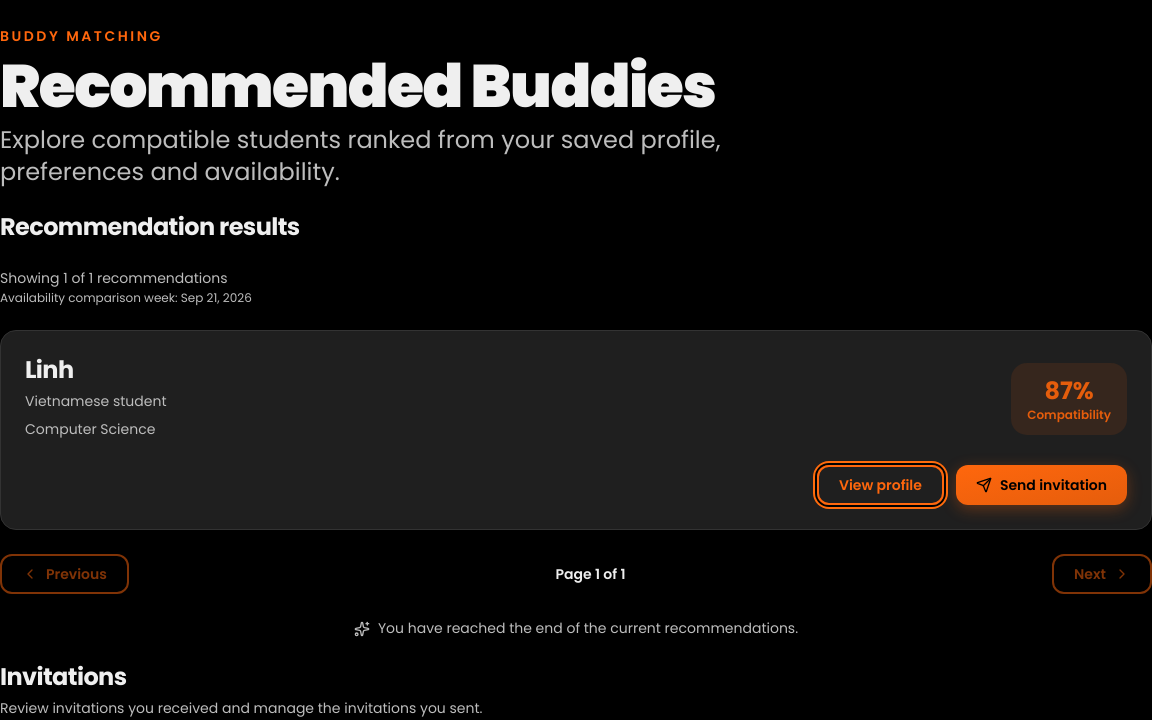
Test: REC-004 Recommended Buddies page › closes the profile dialog with Escape or the backdrop and restores focus and scrolling
Step 1. Click the button "View profile" → (880, 485), box [817,465,944,505]
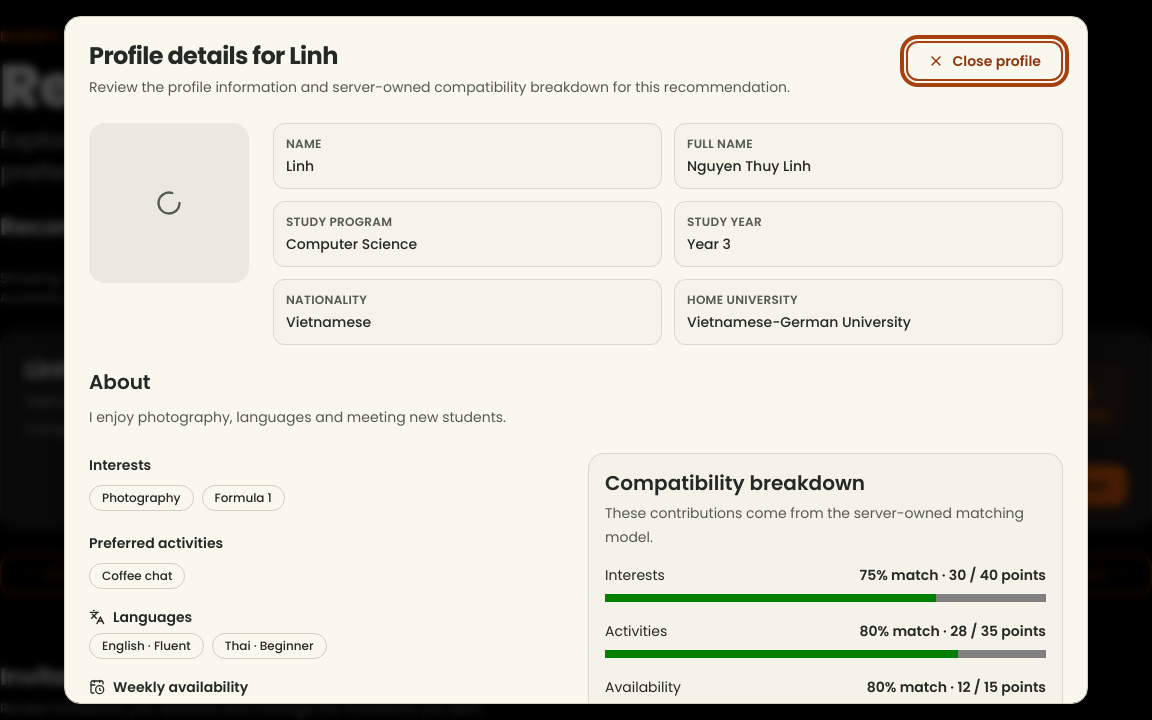
Step 2. Press Escape
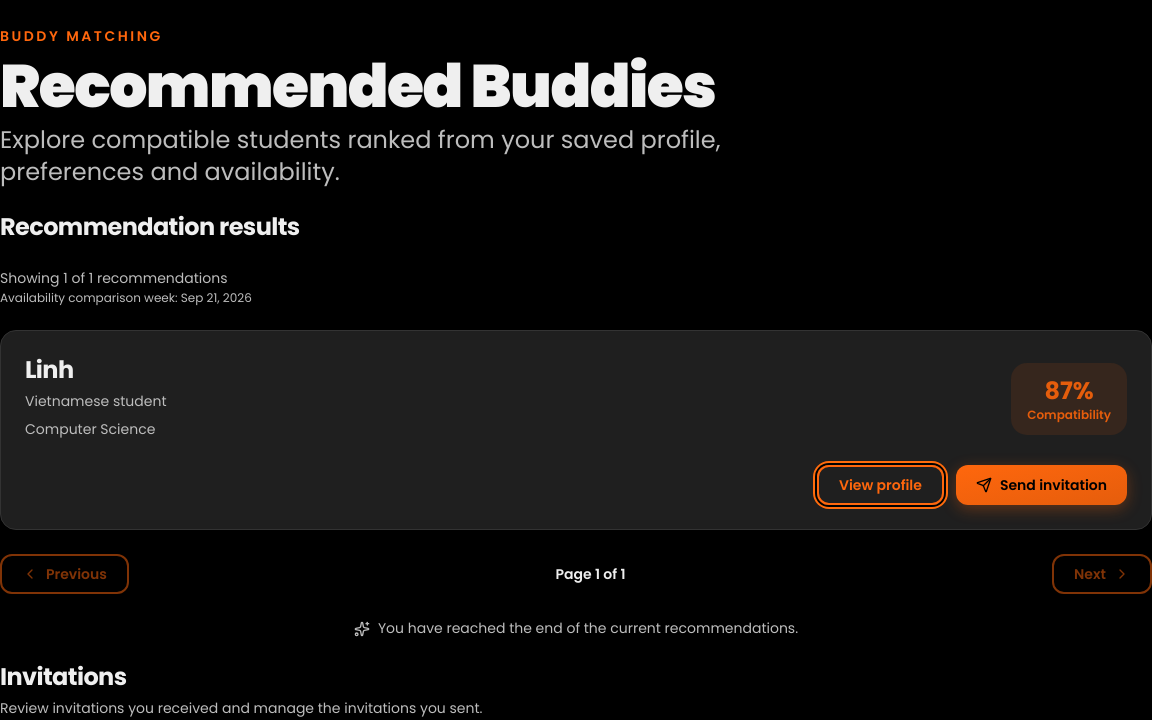
Now the dialog is gone
Step 3. Click the button "View profile" → (880, 485), box [817,465,944,505]
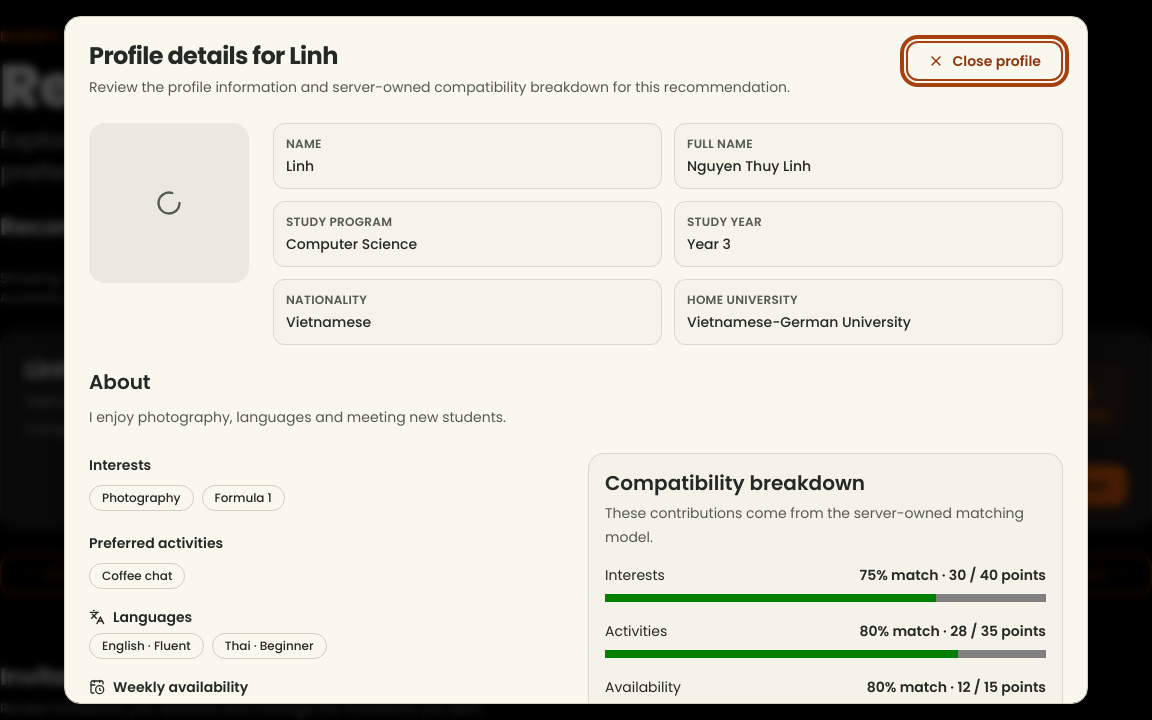
Step 4. Click the element with test id "recommendation-profile-backdrop" → (46, 29), box [0,0,1151,719]
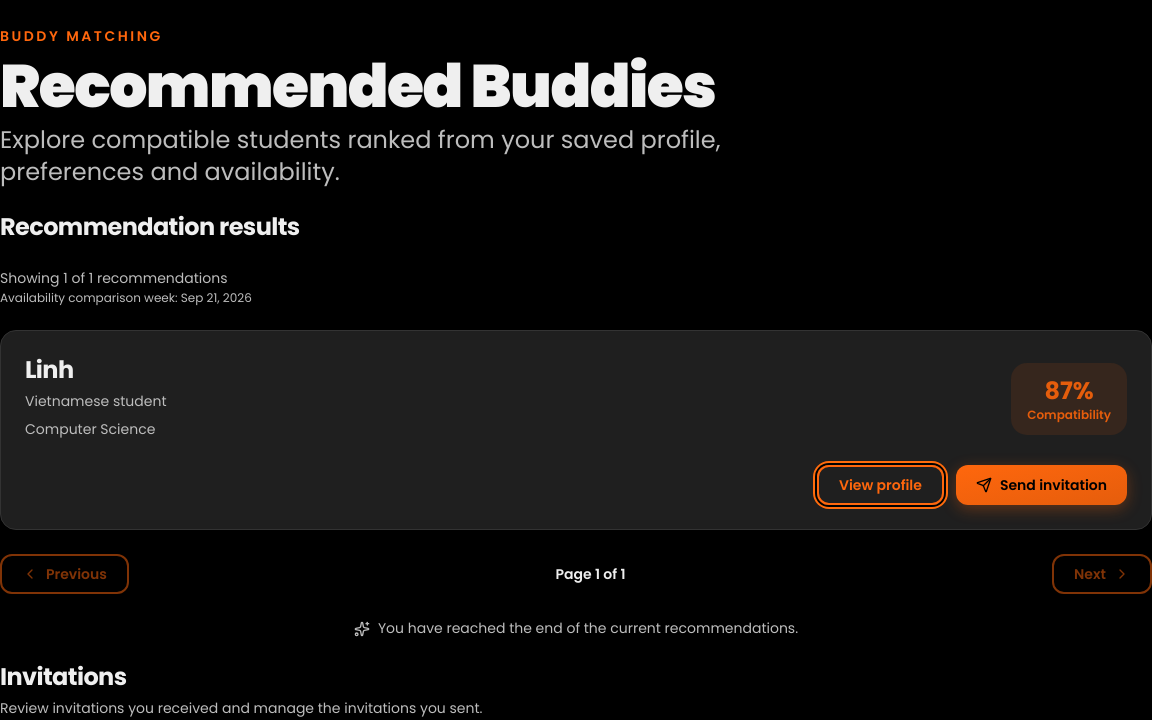
Now the dialog is gone
